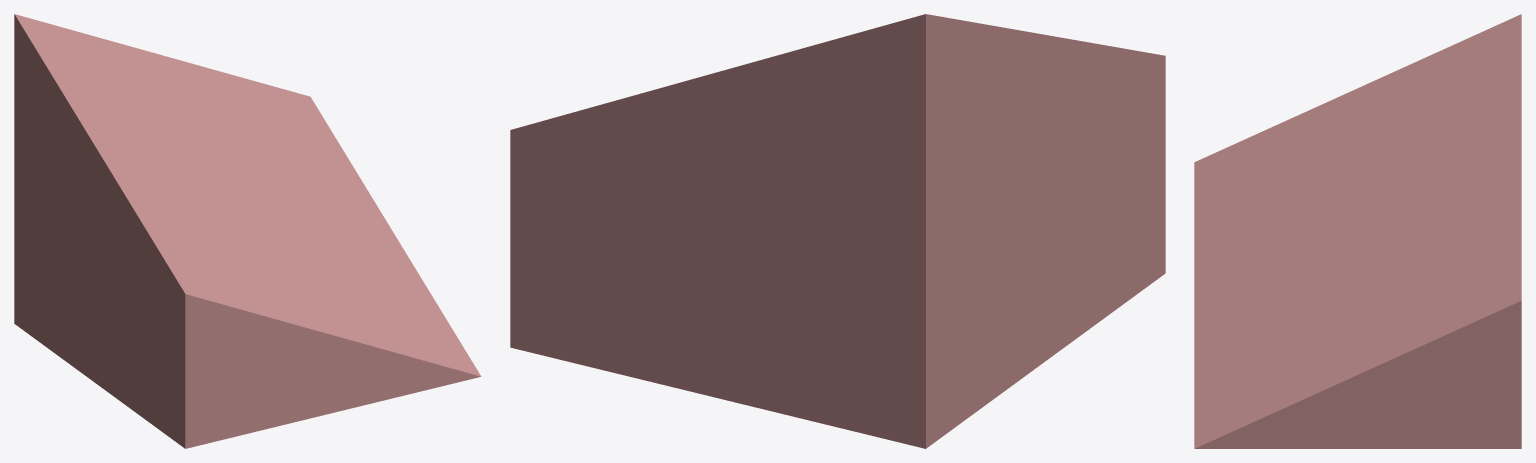
File: Bounce_OuterCorner.glb
3 renders of one model, left to right at view 1: azimuth 30°, elevation 25°; view 2: azimuth 150°, elevation 25°; view 3: azimuth 270°, elevation 25°, orthographic. The views are drawn at different scales.
Parts seen in each view (by area): view 1: Bounce_OuterCorner_body; view 2: Bounce_OuterCorner_body; view 3: Bounce_OuterCorner_body.
Boxes of the visible parts, x1,y1,x2,y2 form: Bounce_OuterCorner_body: [14, 14, 481, 448]; Bounce_OuterCorner_body: [510, 14, 1165, 448]; Bounce_OuterCorner_body: [1194, 14, 1521, 448].
Bounding box in the file's own units: 1 × 1 × 1.
